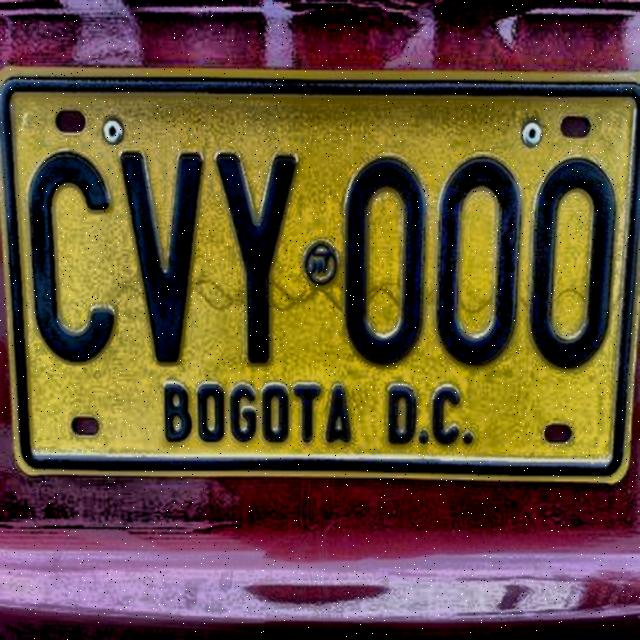0: (342, 150, 437, 371), (432, 150, 526, 372), (528, 154, 616, 372)
C: (28, 152, 116, 362)
V: (119, 150, 208, 367)
Y: (210, 146, 300, 366)
